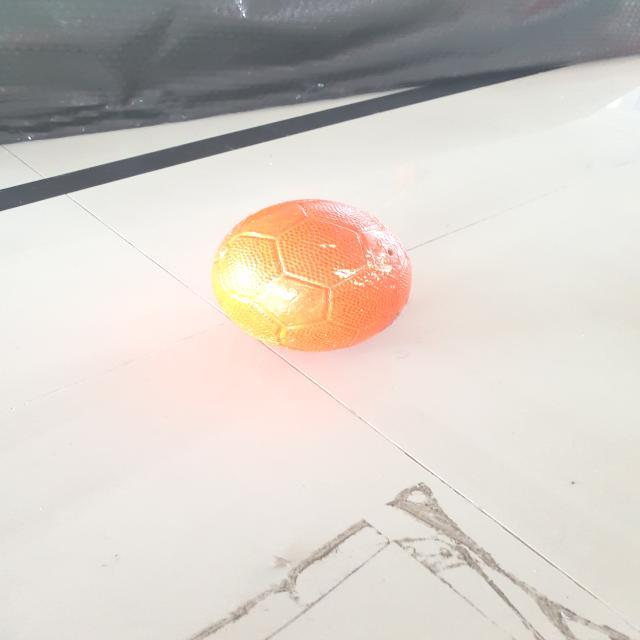bola: (177, 175, 454, 368)
